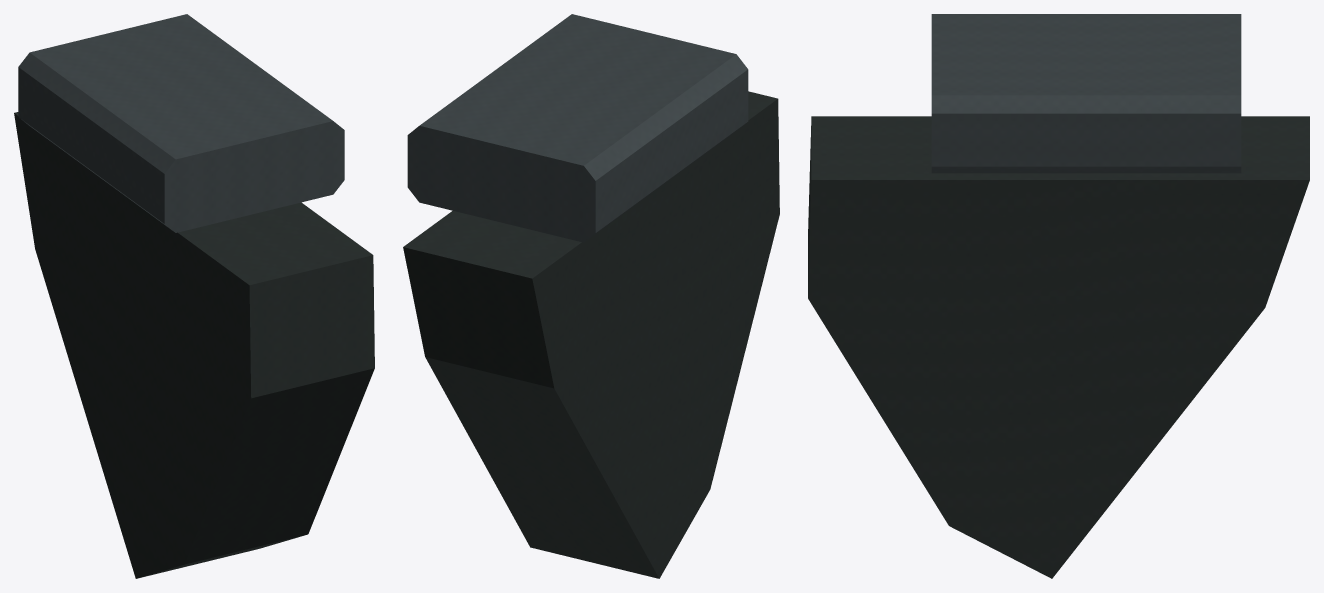
The model's file is fore_slim.glb.
3 renders of one model, left to right at view 1: azimuth 30°, elevation 25°; view 2: azimuth 150°, elevation 25°; view 3: azimuth 270°, elevation 25°, orthographic. The views are drawn at different scales.
Parts seen in each view (by area): view 1: fore_slim_inclined_palm_profile, fore_slim_rail_clamp, fore_slim_inclined_palm_profile.001; view 2: fore_slim_inclined_palm_profile, fore_slim_inclined_palm_profile.001, fore_slim_rail_clamp; view 3: fore_slim_inclined_palm_profile.001, fore_slim_inclined_palm_profile, fore_slim_rail_clamp.
Part boxes in pixels (x1,y1,x2,y2): fore_slim_inclined_palm_profile: (19, 124, 369, 571); fore_slim_rail_clamp: (18, 14, 344, 232); fore_slim_inclined_palm_profile.001: (14, 112, 374, 578); fore_slim_inclined_palm_profile: (410, 94, 776, 569); fore_slim_inclined_palm_profile.001: (403, 91, 779, 578); fore_slim_rail_clamp: (407, 14, 748, 242); fore_slim_inclined_palm_profile.001: (808, 116, 1309, 578); fore_slim_inclined_palm_profile: (808, 119, 1302, 570); fore_slim_rail_clamp: (931, 14, 1241, 173).
Size of the model in its own units: 0.064 by 0.158 by 0.146.
2 materials, 2 textured.
